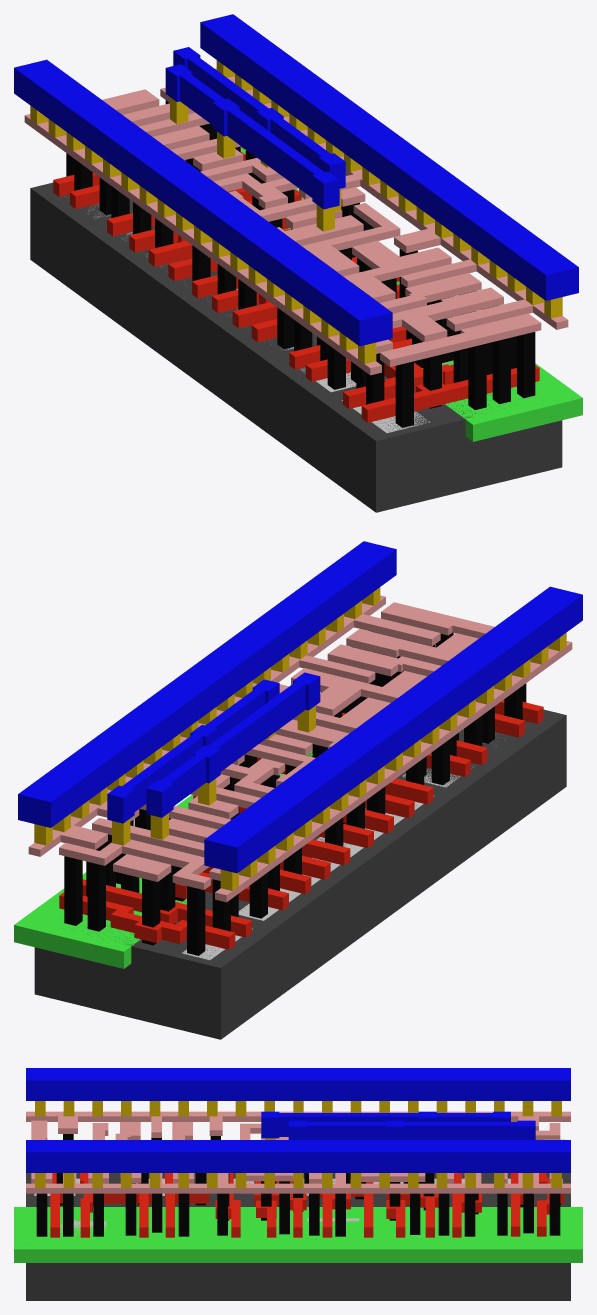
File: sky130_fd_sc_hd__dfxbp_1.obj
3 renders of one model, top to bottom at view 1: azimuth 30°, elevation 25°; view 2: azimuth 150°, elevation 25°; view 3: azimuth 270°, elevation 25°, orthographic. The views are drawn at different scales.
Visible parts, largest first — view 1: metal1, subs, li, licon, poly, mcon, nwell, diff; view 2: metal1, subs, li, licon, poly, mcon, nwell, diff; view 3: metal1, subs, nwell, li, licon, poly, mcon.
Boxes of the visible parts, x1=… form: metal1: x1=14, y1=14, x2=578, y2=346; subs: x1=30, y1=182, x2=562, y2=512; li: x1=24, y1=68, x2=568, y2=375; licon: x1=66, y1=100, x2=535, y2=427; poly: x1=53, y1=151, x2=539, y2=422; mcon: x1=30, y1=60, x2=562, y2=363; nwell: x1=240, y1=148, x2=582, y2=441; diff: x1=87, y1=203, x2=429, y2=432; metal1: x1=18, y1=541, x2=582, y2=873; subs: x1=34, y1=709, x2=566, y2=1039; li: x1=28, y1=595, x2=572, y2=902; licon: x1=64, y1=632, x2=526, y2=955; poly: x1=59, y1=684, x2=543, y2=949; mcon: x1=34, y1=587, x2=566, y2=890; nwell: x1=14, y1=751, x2=312, y2=968; diff: x1=182, y1=733, x2=497, y2=959; metal1: x1=26, y1=1068, x2=570, y2=1172; subs: x1=26, y1=1173, x2=570, y2=1300; nwell: x1=14, y1=1207, x2=582, y2=1262; li: x1=26, y1=1111, x2=570, y2=1193; licon: x1=36, y1=1134, x2=560, y2=1236; poly: x1=50, y1=1173, x2=564, y2=1237; mcon: x1=35, y1=1101, x2=561, y2=1187.
Size of the model in its own units: 3.2 by 2.74 by 9.12.
